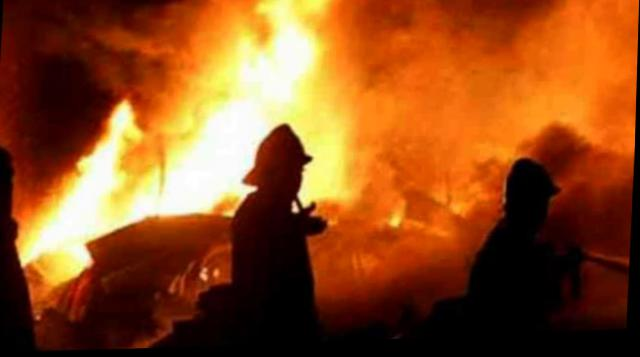fire: (67, 102, 139, 197), (199, 48, 258, 160), (21, 198, 100, 267), (139, 160, 221, 221), (262, 25, 307, 125), (309, 134, 343, 200)
smoke: (346, 0, 639, 168), (4, 0, 193, 104), (11, 104, 69, 200), (356, 165, 486, 202)
